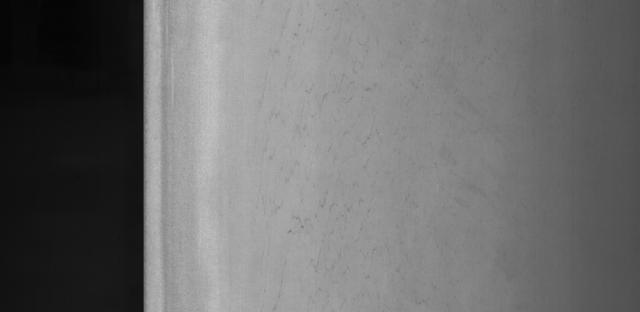silk_spot: (264, 20, 449, 260)
